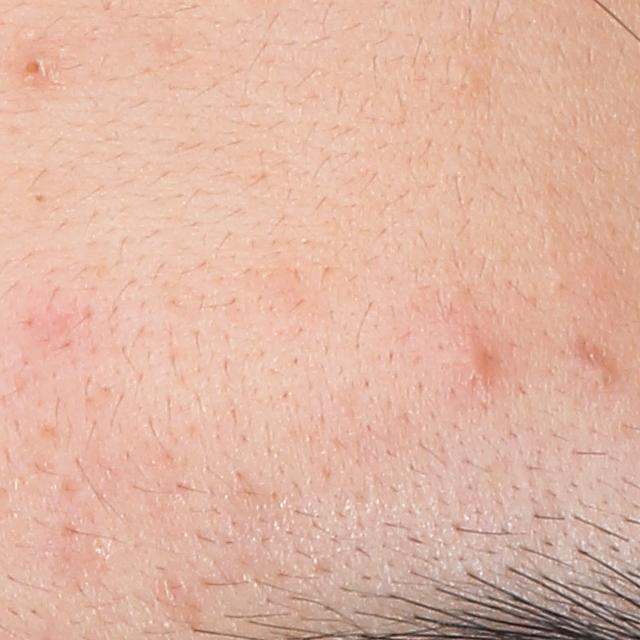comedo: (20, 53, 54, 81), (588, 364, 615, 387), (33, 192, 47, 207)
papule: (463, 331, 497, 390)
